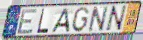A: (50, 7, 70, 34)
E: (15, 8, 39, 36)
G: (70, 6, 90, 33)
L: (36, 7, 50, 34)
N: (103, 5, 128, 33), (87, 5, 109, 33)
